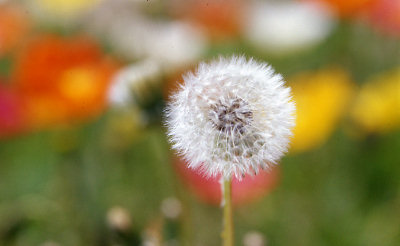dandelion: (148, 47, 315, 189)
